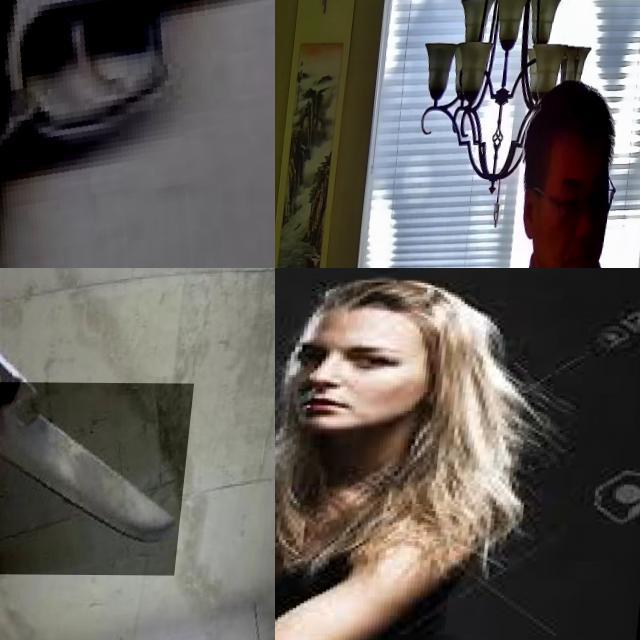-: (0, 381, 199, 574)
gun-knife-thesis - v11 Yolov5 augmented: (0, 0, 275, 268), (275, 338, 349, 493)
